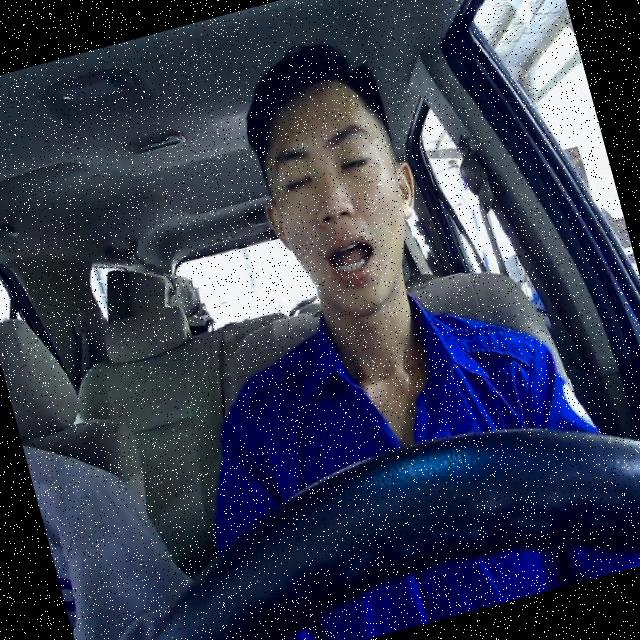yarning: (232, 58, 444, 334)
